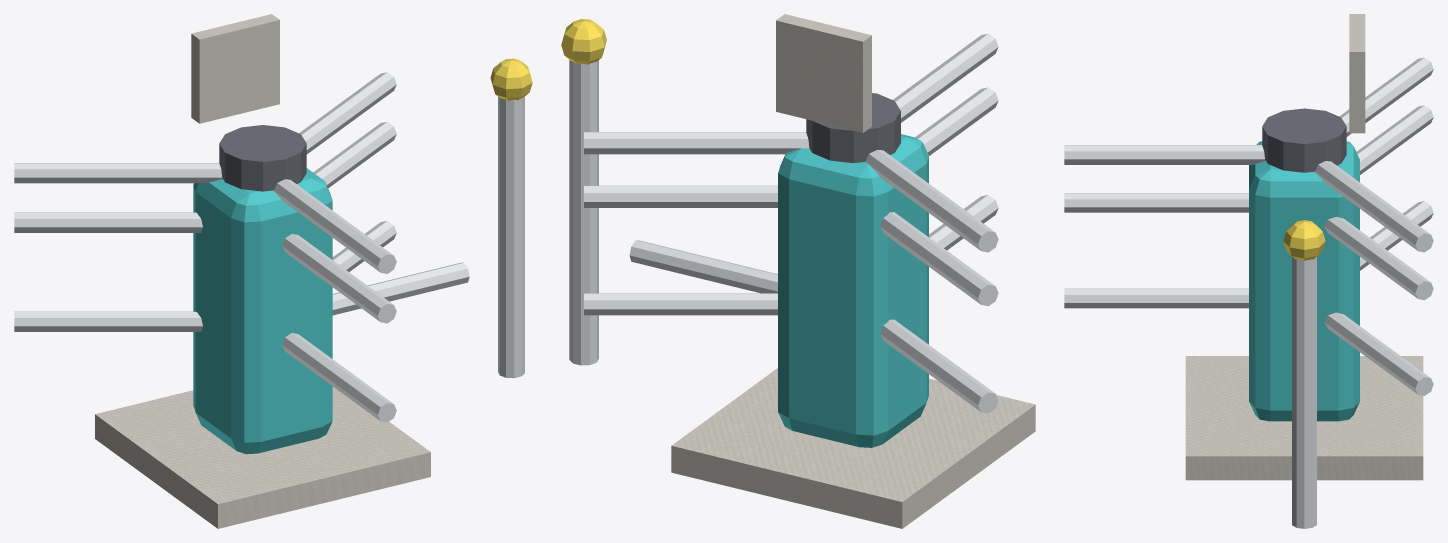
File: theme-park-rides-and-coasters-theme-park-rides-and-coa-d0751015__28672.glb
3 views of the same model, side by side, from view 1: azimuth 30°, elevation 25°; view 2: azimuth 150°, elevation 25°; view 3: azimuth 270°, elevation 25° (orthographic). The views are drawn at different scales.
Visible parts, largest first — view 1: theme-park-rides-and-coasters-exit-turnstile, turnstile; view 2: theme-park-rides-and-coasters-exit-turnstile, turnstile; view 3: theme-park-rides-and-coasters-exit-turnstile, turnstile.
Part boxes in pixels (x1,y1,x2,y2): theme-park-rides-and-coasters-exit-turnstile: (95, 14, 532, 528); turnstile: (14, 72, 469, 422); theme-park-rides-and-coasters-exit-turnstile: (561, 14, 1035, 528); turnstile: (584, 33, 998, 413); theme-park-rides-and-coasters-exit-turnstile: (1185, 14, 1423, 528); turnstile: (1064, 57, 1433, 395).
Bounding box in the file's own units: 1.94 × 1.66 × 1.4.
5 materials, 1 textured.
